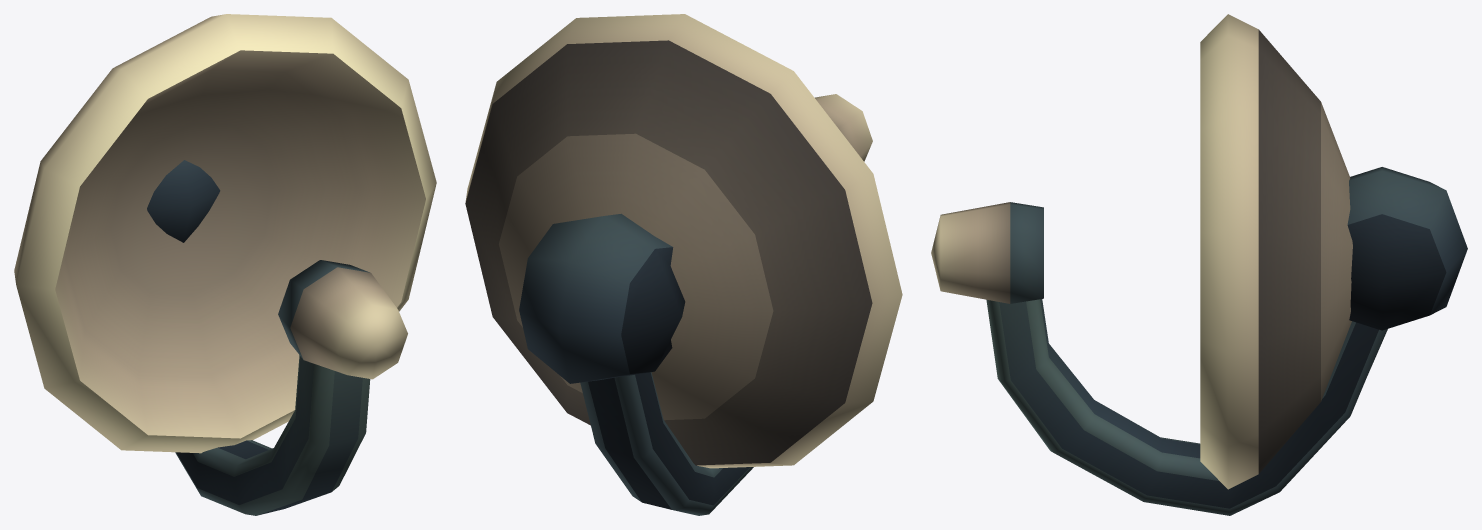
The model's file is sattelite_dish_LOD_setup.fbx.
3 views of the same model, side by side, from view 1: azimuth 30°, elevation 25°; view 2: azimuth 150°, elevation 25°; view 3: azimuth 270°, elevation 25° (orthographic). The views are drawn at different scales.
Parts seen in each view (by area): view 1: sattelite_dish_LOD0; view 2: sattelite_dish_LOD0; view 3: sattelite_dish_LOD0.
Part boxes in pixels (x1,y1,x2,y2): sattelite_dish_LOD0: (14, 14, 436, 515); sattelite_dish_LOD0: (465, 14, 902, 515); sattelite_dish_LOD0: (931, 14, 1467, 515).
Size of what is drawn, in the model's own units: 116 by 126 by 130.
